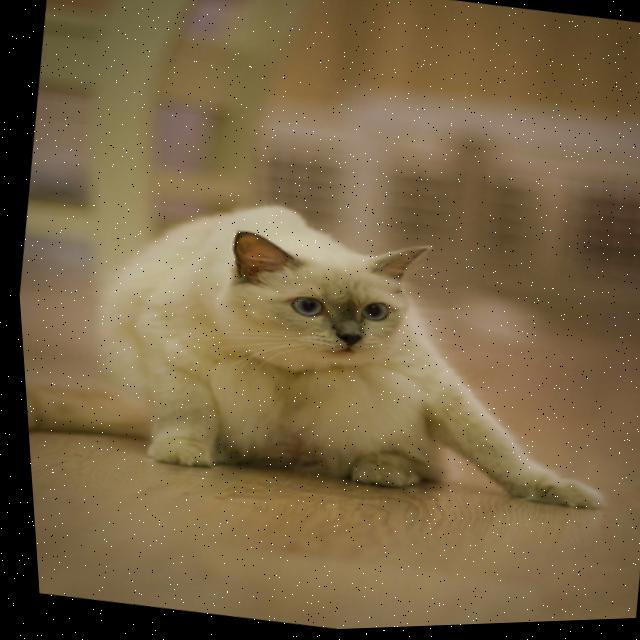Ragdoll: (9, 147, 640, 546)
